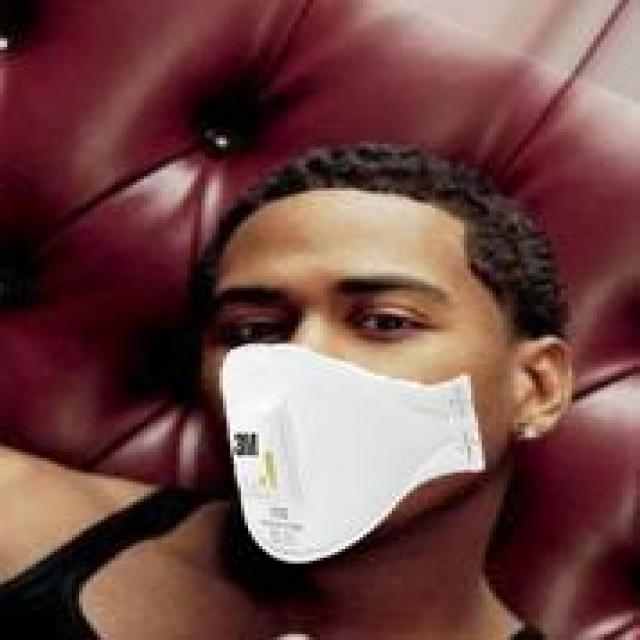mask: (140, 167, 629, 587)
